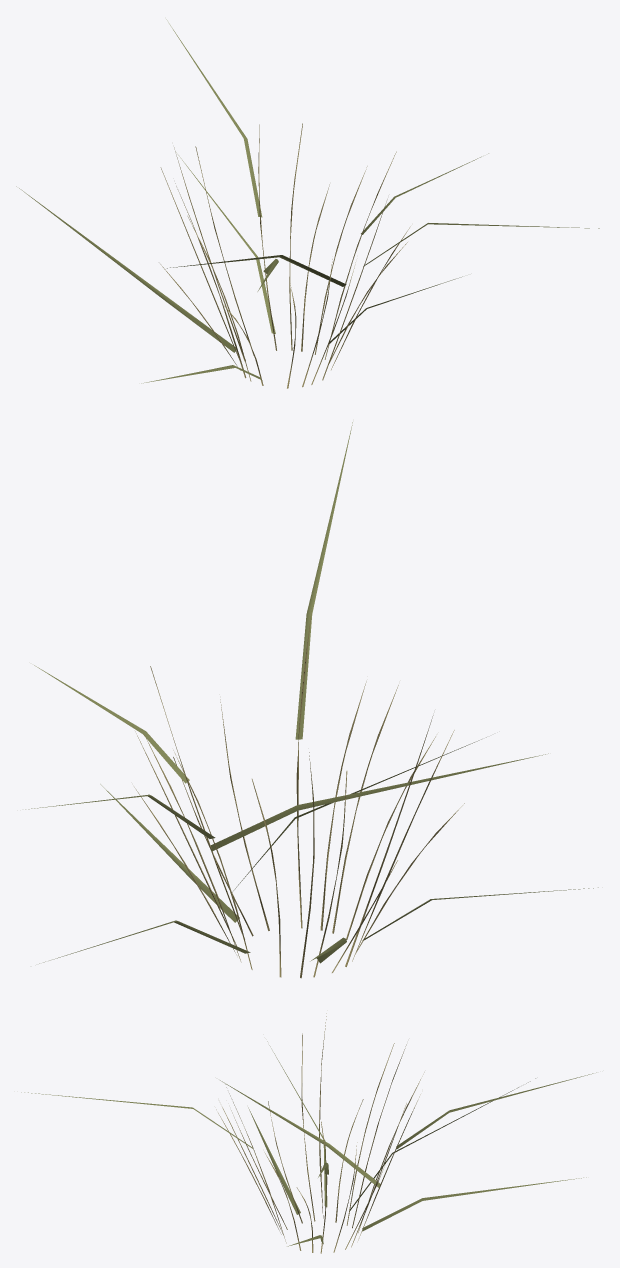
File: Herbes_2_Niveau2.fbx
3 renders of one model, top to bottom at view 1: azimuth 30°, elevation 25°; view 2: azimuth 150°, elevation 25°; view 3: azimuth 270°, elevation 25°, orthographic. The views are drawn at different scales.
Parts seen in each view (by area): view 1: Herbes_2_Niveau2; view 2: Herbes_2_Niveau2; view 3: Herbes_2_Niveau2.
Part boxes in pixels (x1,y1,x2,y2): Herbes_2_Niveau2: [16, 19, 599, 388]; Herbes_2_Niveau2: [25, 422, 598, 978]; Herbes_2_Niveau2: [21, 1013, 596, 1253].
Bounding box in the file's own units: 66.22 × 38.35 × 101.
